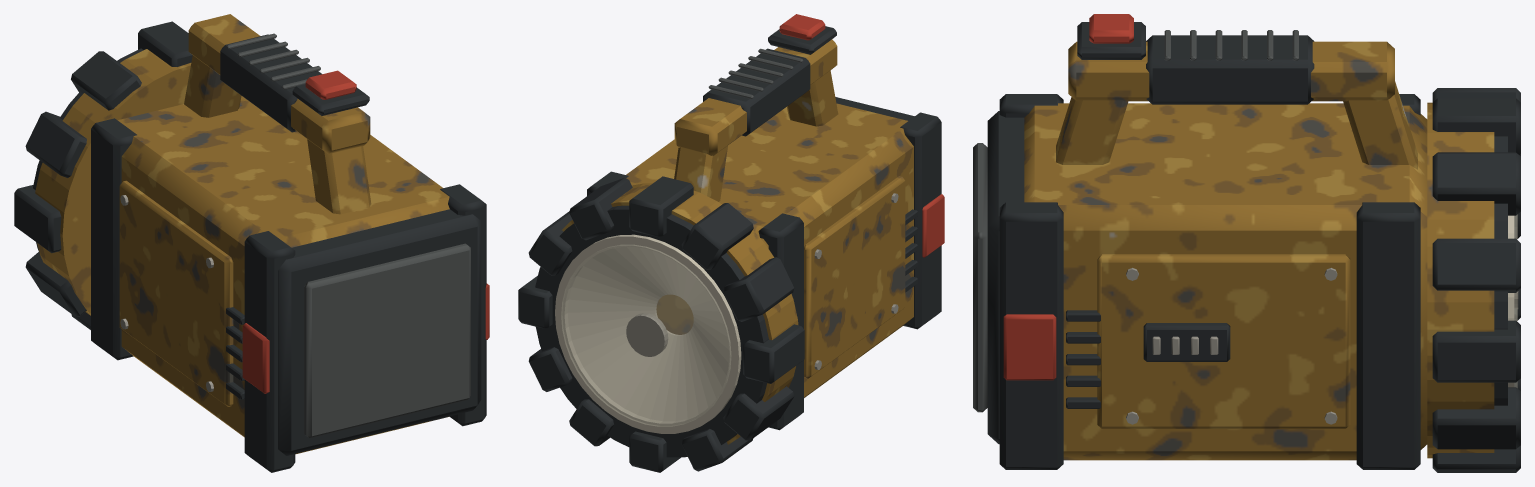
The model's file is searchlight.glb.
The picture shows the model from 3 angles, left to right: view 1: azimuth 30°, elevation 25°; view 2: azimuth 150°, elevation 25°; view 3: azimuth 270°, elevation 25°; orthographic projection. The views are drawn at different scales.
Parts seen in each view (by area): view 1: Searchlight_Body, Searchlight_Battery, Searchlight_Button; view 2: Searchlight_Body, Searchlight_Lens, Searchlight_Battery, Searchlight_Button; view 3: Searchlight_Body, Searchlight_Battery, Searchlight_Button.
Boxes of the visible parts, x1,y1,x2,y2 form: Searchlight_Body: [14, 14, 486, 472]; Searchlight_Battery: [242, 209, 489, 455]; Searchlight_Button: [305, 70, 356, 99]; Searchlight_Body: [518, 26, 941, 472]; Searchlight_Lens: [561, 245, 731, 426]; Searchlight_Battery: [835, 97, 944, 257]; Searchlight_Button: [779, 14, 825, 40]; Searchlight_Body: [999, 22, 1520, 472]; Searchlight_Battery: [973, 111, 1056, 444]; Searchlight_Button: [1089, 14, 1133, 43].
Size of the model in its own units: 0.239 by 0.2975 by 0.342.
2 materials, 1 textured.
